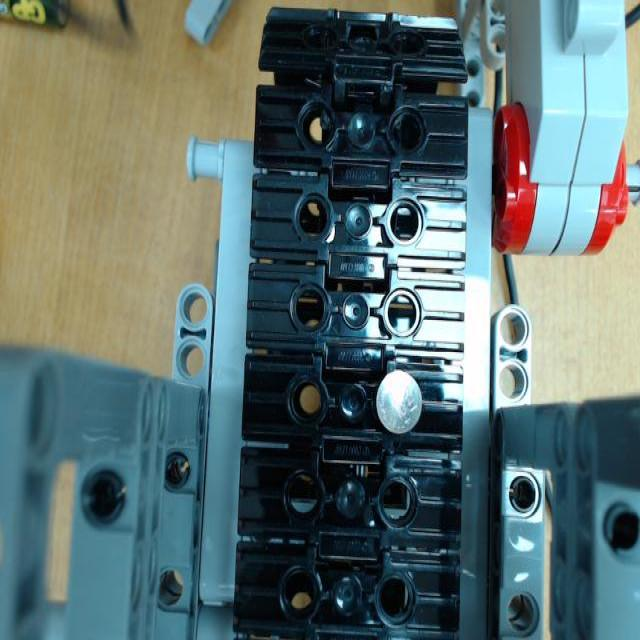COIN: (372, 369, 423, 439)
